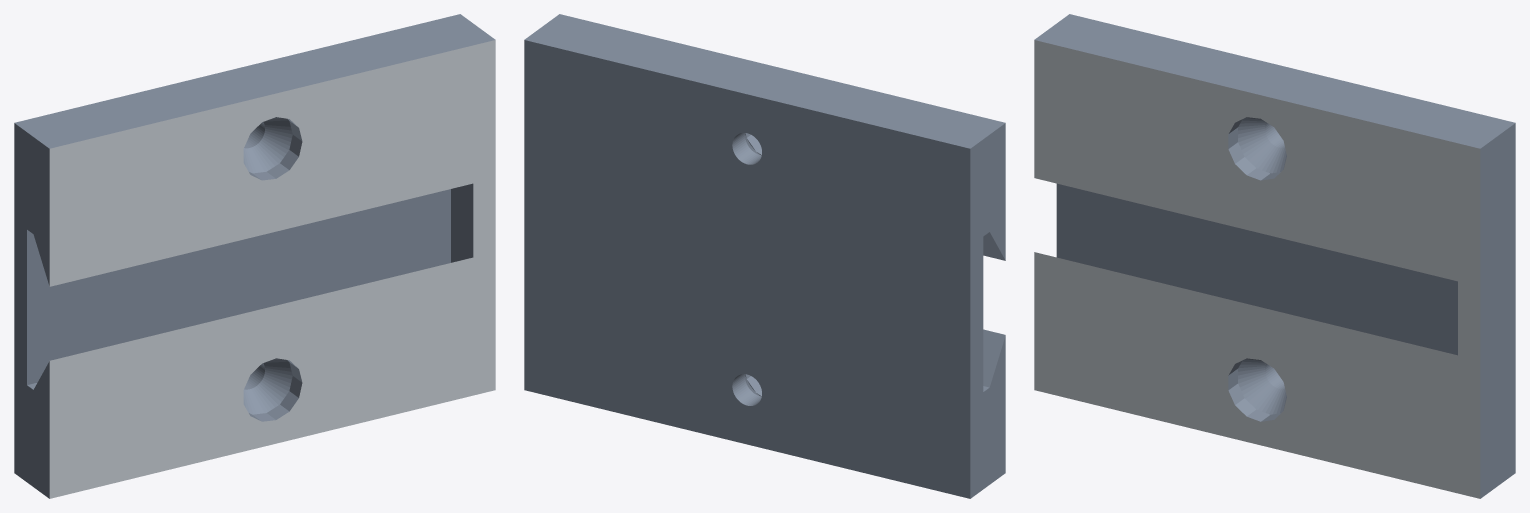
File: mounting_plate.glb
3 renders of one model, left to right at view 1: azimuth 30°, elevation 25°; view 2: azimuth 150°, elevation 25°; view 3: azimuth 330°, elevation 25°, orthographic.
Parts seen in each view (by area): view 1: top_face, inner_groove; view 2: inner_groove; view 3: top_face, inner_groove.
Part boxes in pixels (x1=…): top_face: x1=49, y1=40, x2=495, y2=498; inner_groove: x1=14, y1=14, x2=495, y2=498; inner_groove: x1=524, y1=14, x2=1005, y2=498; top_face: x1=1034, y1=40, x2=1480, y2=498; inner_groove: x1=1034, y1=14, x2=1515, y2=498.
Size of the model in its own units: 60 by 45 by 8.25.
